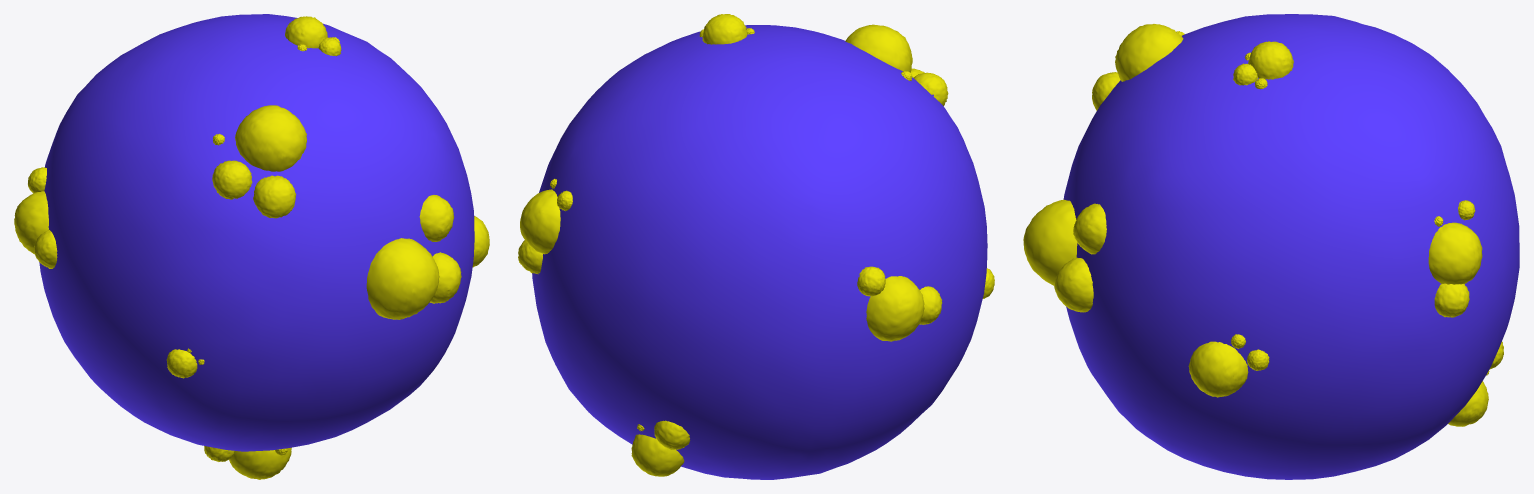
Rendered from donkey_ball_hd.fbx.
3 renders of one model, left to right at view 1: azimuth 30°, elevation 25°; view 2: azimuth 150°, elevation 25°; view 3: azimuth 270°, elevation 25°, orthographic. The views are drawn at different scales.
Parts seen in each view (by area): view 1: Cube.030; view 2: Cube.030; view 3: Cube.030.
Part boxes in pixels (x1,y1,x2,y2): Cube.030: (14,14,489,479); Cube.030: (518,14,994,479); Cube.030: (1023,14,1519,479).
Size of the model in its own units: 173 by 170 by 175.
